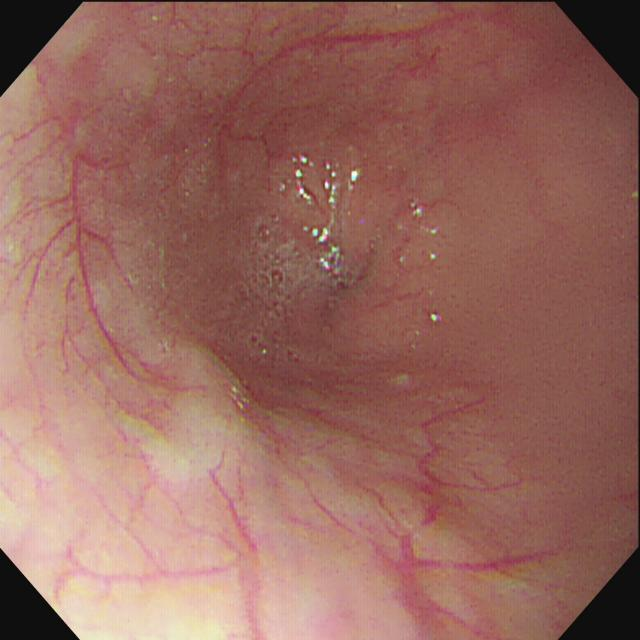J: (118, 344, 255, 495)
T: (242, 220, 349, 356)
U: (292, 154, 313, 200), (324, 161, 339, 209), (310, 227, 331, 246), (349, 168, 361, 192)
